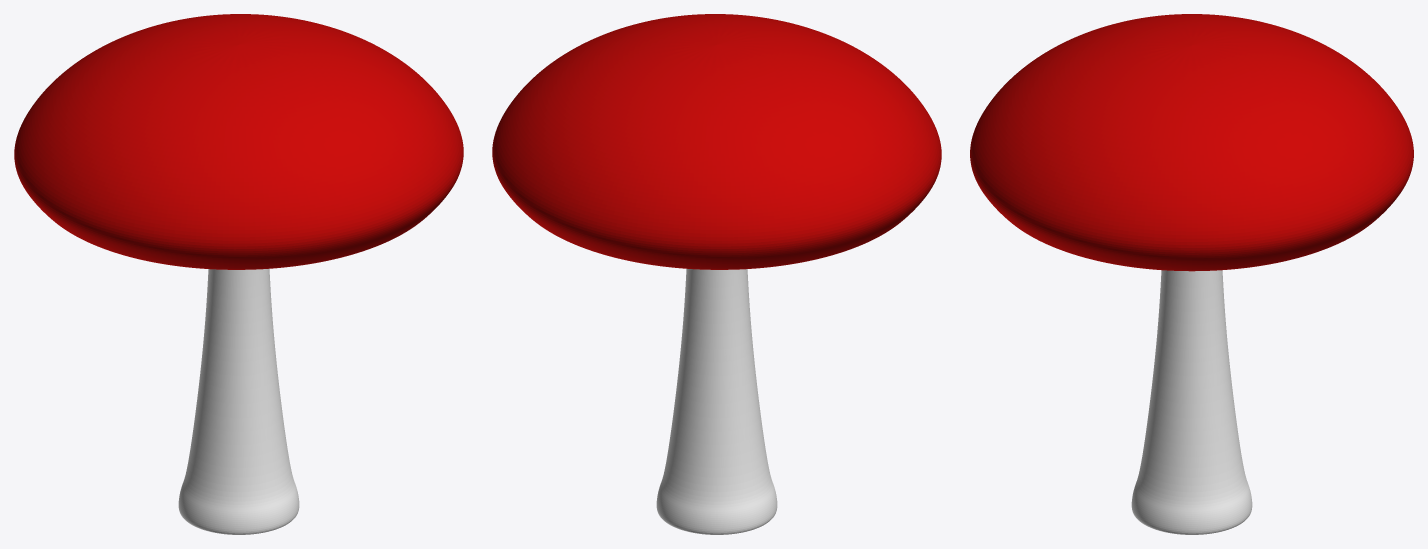
File: mushroom.fbx
3 renders of one model, left to right at view 1: azimuth 30°, elevation 25°; view 2: azimuth 150°, elevation 25°; view 3: azimuth 270°, elevation 25°, orthographic.
Visible parts, largest first — view 1: Cylinder; view 2: Cylinder; view 3: Cylinder.
Boxes of the visible parts, <box> form: Cylinder: <box>14,14,463,534</box>; Cylinder: <box>492,14,941,534</box>; Cylinder: <box>970,14,1413,534</box>.
Bounding box in the file's own units: 384 × 437 × 378.
